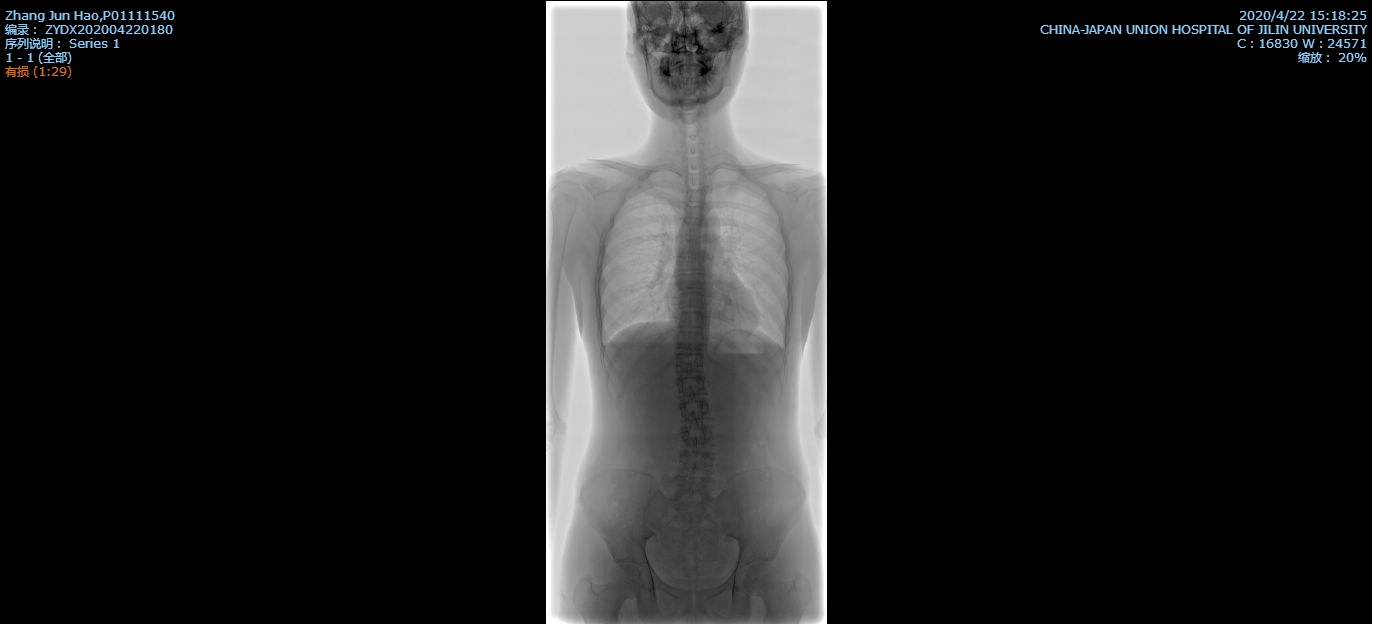Bone: (676, 475, 711, 497), (681, 424, 712, 444), (680, 400, 709, 419), (680, 451, 712, 468), (677, 377, 707, 395), (676, 354, 704, 372), (676, 332, 703, 348), (679, 311, 704, 328), (677, 274, 704, 289), (678, 292, 702, 308), (679, 237, 703, 252), (676, 255, 701, 268), (682, 221, 705, 235), (686, 171, 706, 185), (685, 204, 706, 217), (688, 189, 707, 202), (685, 156, 703, 169)
